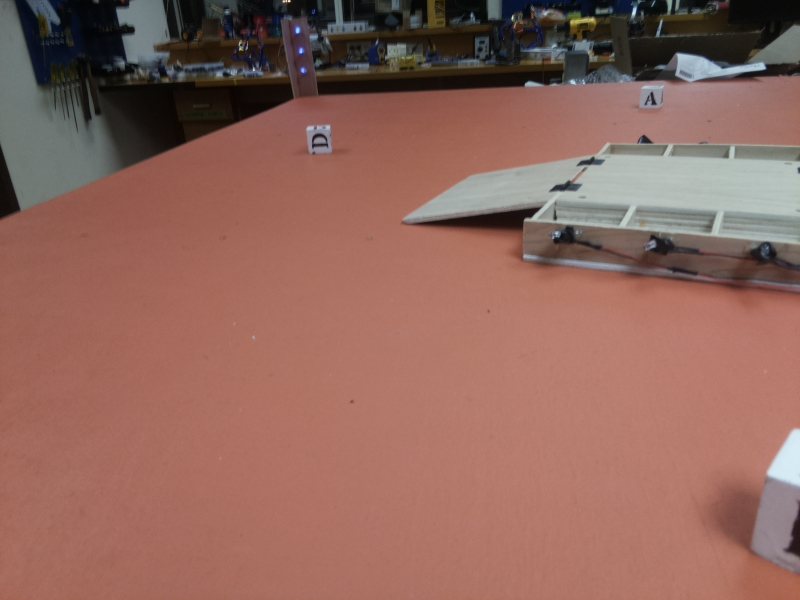blockA: (636, 85, 668, 110)
blockD: (305, 123, 337, 157)
blockE: (745, 428, 800, 573)
corner: (278, 14, 324, 98)
side: (513, 219, 800, 301), (605, 136, 800, 150)
slope: (394, 156, 602, 225)
